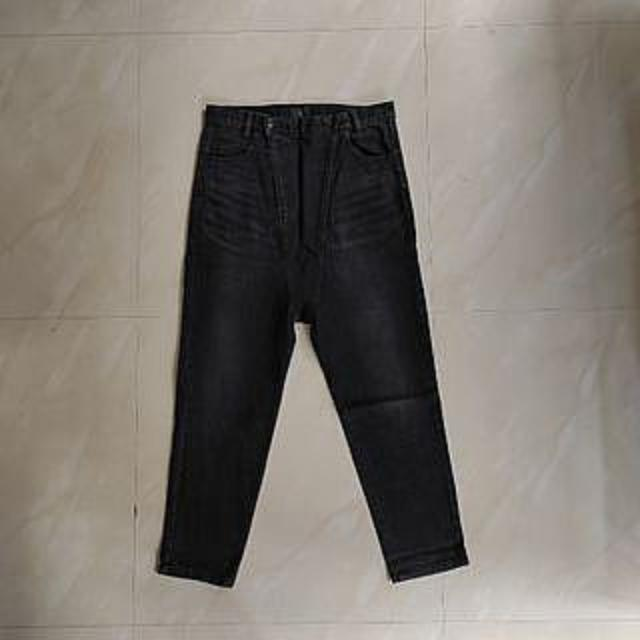TROUSER: (138, 89, 488, 596)
